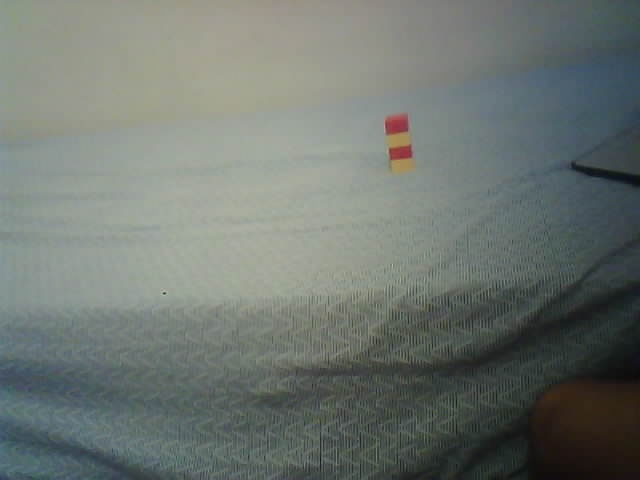lego: (383, 113, 415, 175)
